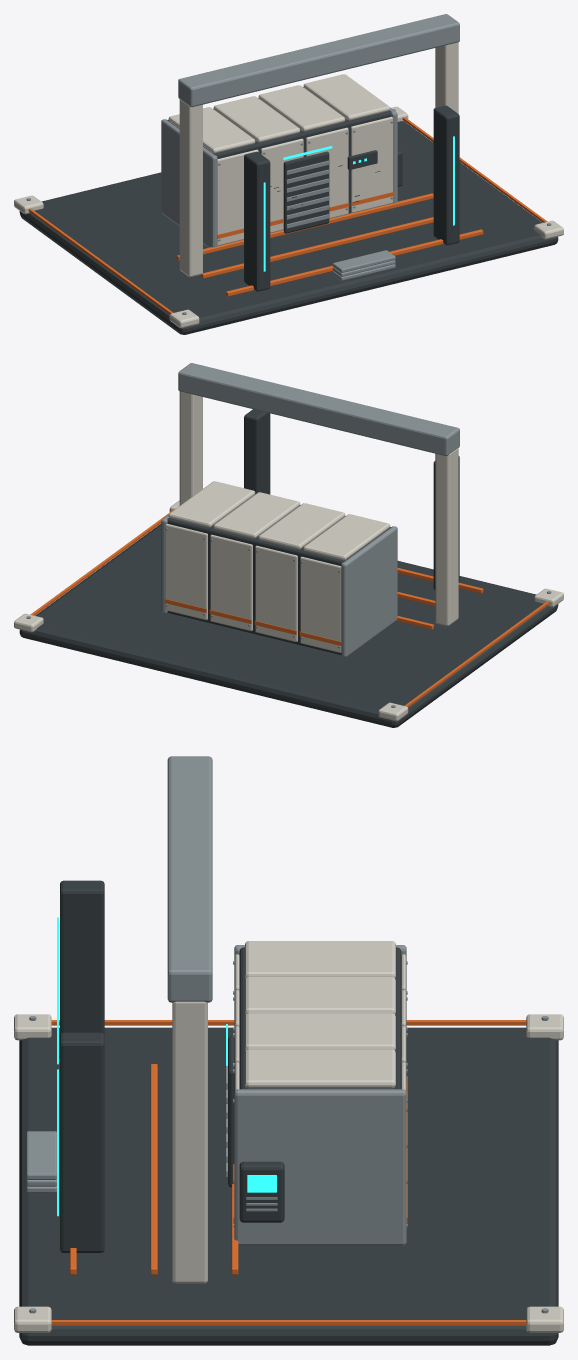
File: SM_ShipUpgradeDock_Body.002.fbx
3 views of the same model, one above another, from view 1: azimuth 30°, elevation 25°; view 2: azimuth 150°, elevation 25°; view 3: azimuth 270°, elevation 25° (orthographic). The views are drawn at different scales.
Visible parts, largest first — view 1: SM_ShipUpgradeDock_Body.002; view 2: SM_ShipUpgradeDock_Body.002; view 3: SM_ShipUpgradeDock_Body.002.
Boxes of the visible parts, <box> form: SM_ShipUpgradeDock_Body.002: <box>14,14,563,334</box>; SM_ShipUpgradeDock_Body.002: <box>14,363,563,727</box>; SM_ShipUpgradeDock_Body.002: <box>14,756,563,1345</box>.
Size of the model in its own units: 812 by 612 by 410.
